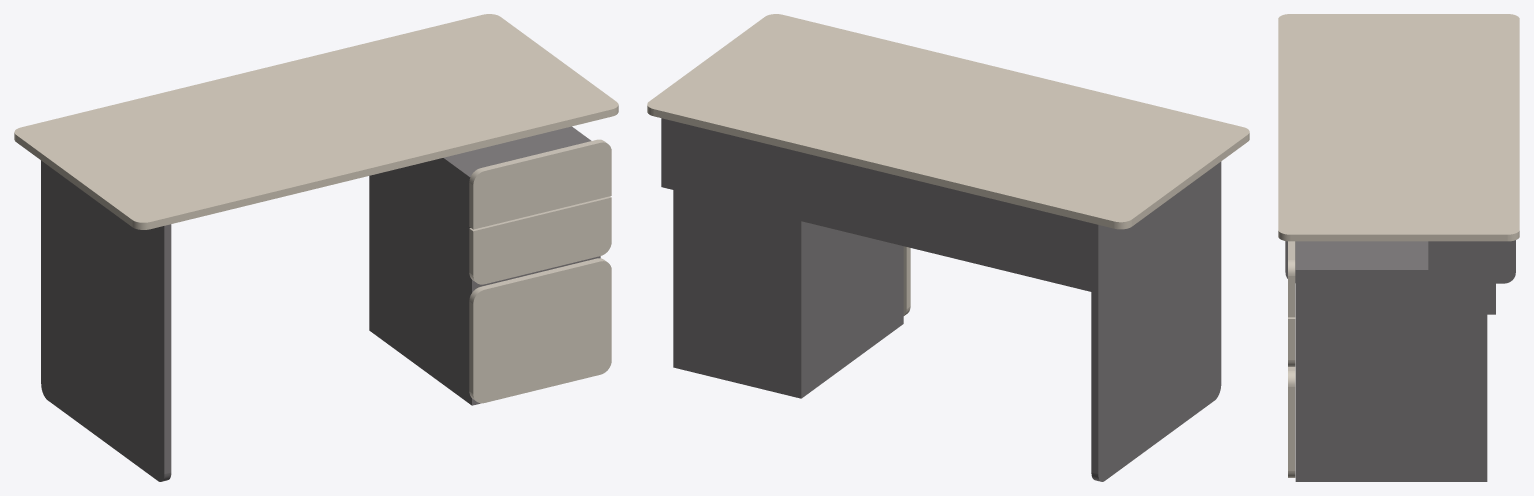
Rendered from 2pir_biurko.obj.
3 renders of one model, left to right at view 1: azimuth 30°, elevation 25°; view 2: azimuth 150°, elevation 25°; view 3: azimuth 270°, elevation 25°, orthographic. The views are drawn at different scales.
Parts seen in each view (by area): view 1: Rectangle10, Rectangle12, Rectangle13, Box02; view 2: Rectangle10, Box02, Rectangle13, Box03; view 3: Rectangle10, Box02, Box03, Rectangle12, Rectangle13.
Boxes of the visible parts, x1=… form: Rectangle10: x1=14, y1=14, x2=618, y2=229; Rectangle12: x1=469, y1=139, x2=611, y2=403; Rectangle13: x1=41, y1=160, x2=171, y2=481; Box02: x1=369, y1=126, x2=600, y2=405; Rectangle10: x1=647, y1=14, x2=1249, y2=229; Box02: x1=673, y1=190, x2=903, y2=398; Rectangle13: x1=1091, y1=161, x2=1221, y2=481; Box03: x1=661, y1=118, x2=1091, y2=291; Rectangle10: x1=1278, y1=14, x2=1519, y2=241; Box02: x1=1295, y1=241, x2=1487, y2=481; Box03: x1=1428, y1=241, x2=1495, y2=314; Rectangle12: x1=1288, y1=241, x2=1295, y2=477; Rectangle13: x1=1285, y1=240, x2=1515, y2=283.
Size of the model in its own units: 140 by 74.94 by 64.74.
